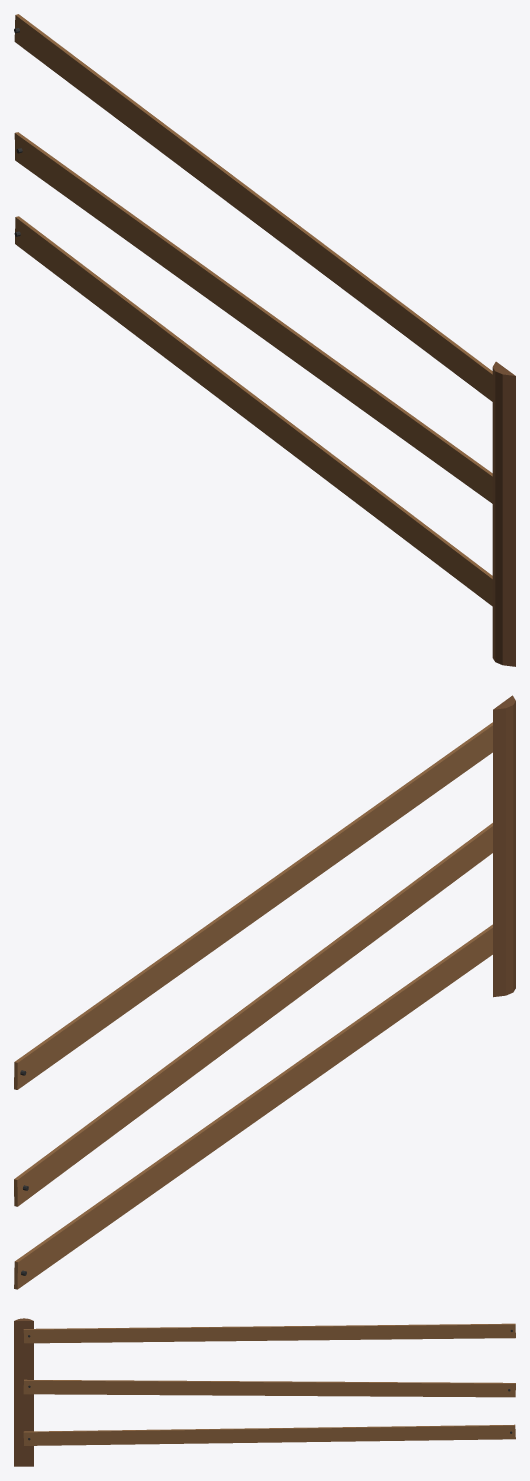
The model's file is fence1.glb.
3 renders of one model, top to bottom at view 1: azimuth 30°, elevation 25°; view 2: azimuth 150°, elevation 25°; view 3: azimuth 270°, elevation 25°, orthographic. The views are drawn at different scales.
Parts seen in each view (by area): view 1: Cylinder.001; view 2: Cylinder.001; view 3: Cylinder.001.
Boxes of the visible parts, bbox=[...] form: Cylinder.001: bbox=[14, 14, 515, 666]; Cylinder.001: bbox=[14, 695, 515, 1289]; Cylinder.001: bbox=[14, 1318, 515, 1466].
Size of what is drawn, in the model's own units: 0.0892 by 1.6 by 5.
